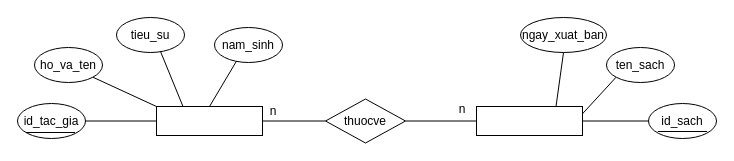
Some shapes in this 734 by 161 pixel diagram are drawn without their labels. The centre of each missing label's shape, as x and y in pixels:
"sach" goes at point 529,121.
"tacgia" goes at point 209,121.
